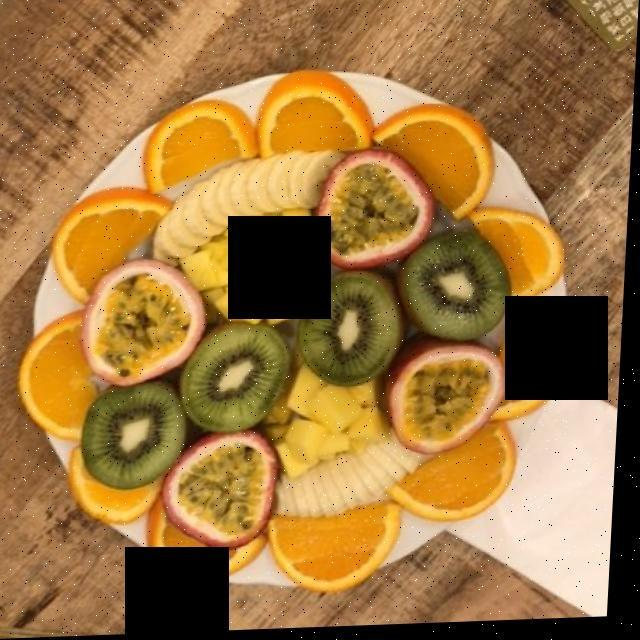banana: (152, 145, 438, 523)
kiwi: (94, 227, 513, 495)
orange: (23, 72, 588, 604)
pineapple: (180, 220, 405, 480)
